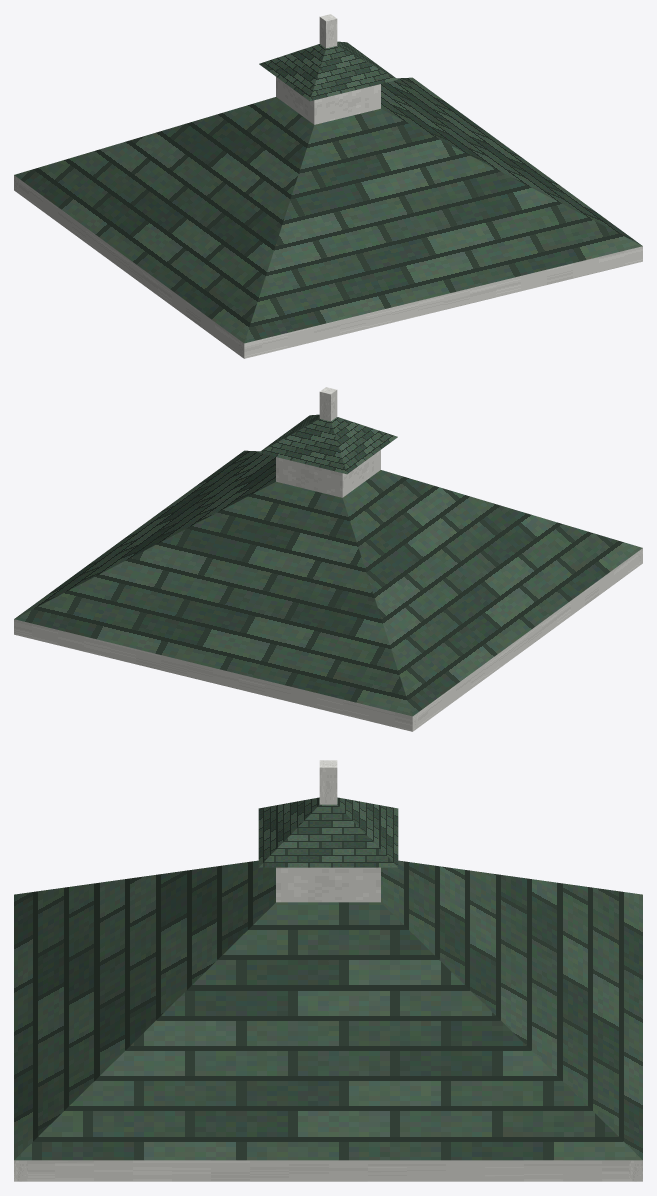
Rendered from gazebo_roof_3x3.obj.
3 renders of one model, top to bottom at view 1: azimuth 30°, elevation 25°; view 2: azimuth 150°, elevation 25°; view 3: azimuth 270°, elevation 25°, orthographic. The views are drawn at different scales.
Parts seen in each view (by area): view 1: gazebo_roof; view 2: gazebo_roof; view 3: gazebo_roof.
Part boxes in pixels (<box>): gazebo_roof: <box>14,14,642,358</box>; gazebo_roof: <box>14,387,642,731</box>; gazebo_roof: <box>14,760,642,1181</box>.
Size of the model in its own units: 3.38 by 1.68 by 3.38.
